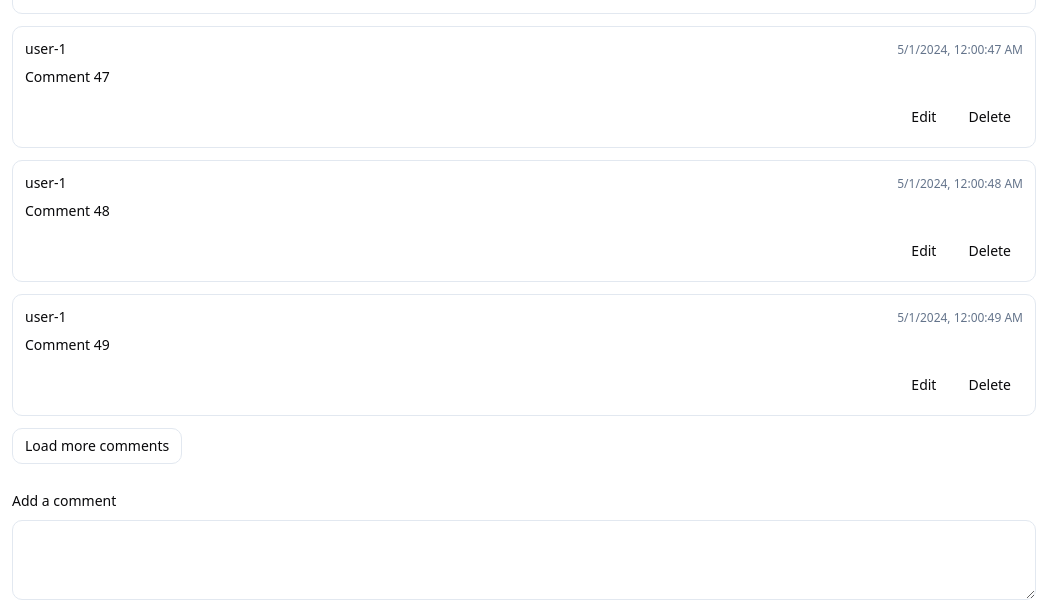
Scenario: PromptCommentsPanel - pagination › loads additional comments when clicking Load more comments
(page scrolled)
Click the button "Load more comments".
click(97, 446)  # box x1=12 y1=428 x2=182 y2=464
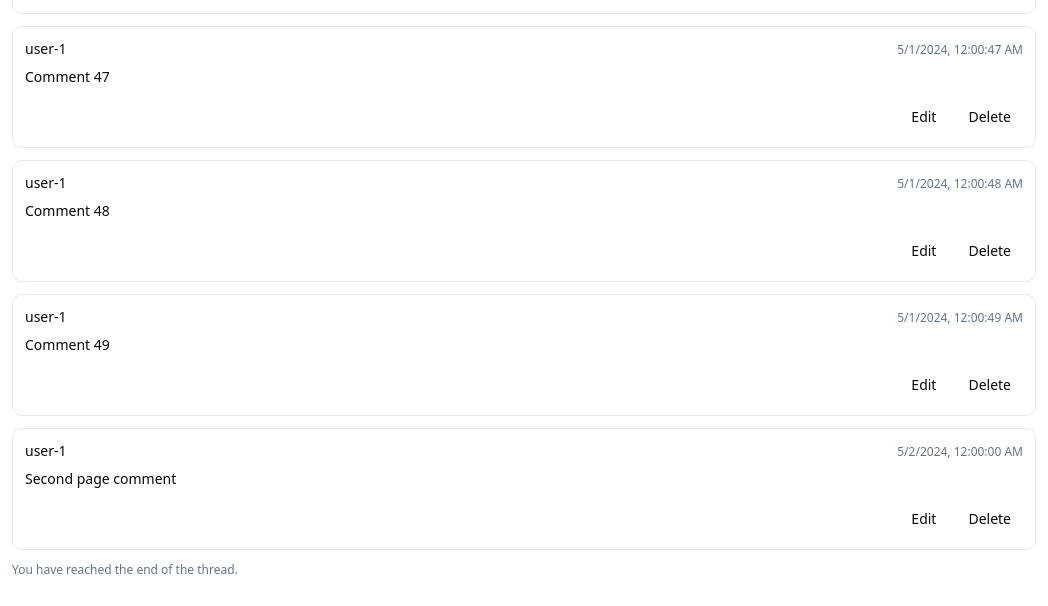
expect the text "Second page comment" is shown: met, box x1=25 y1=469 x2=176 y2=488
expect the button "Load more comments" is gone: met
expect the text "You have reached the end of the thread." is shown: met, box x1=12 y1=561 x2=238 y2=578
